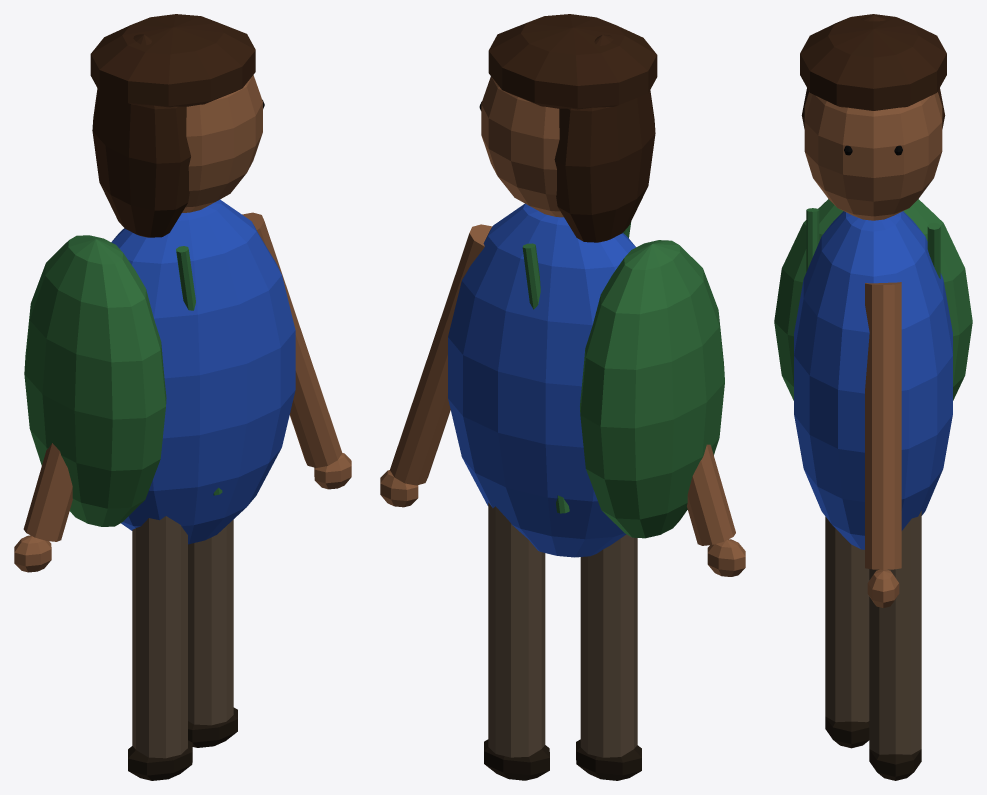
Rendered from backpacker_girl.obj.
The picture shows the model from 3 angles, left to right: view 1: azimuth 30°, elevation 25°; view 2: azimuth 150°, elevation 25°; view 3: azimuth 270°, elevation 25°; orthographic projection. The views are drawn at different scales.
Parts seen in each view (by area): view 1: girl_torso, girl_backpack, girl_leg_-0.07, girl_hair, girl_hair_back, girl_leg_0.07, girl_head, girl_arm_1, girl_arm_-1, girl_boot_-0.07, girl_hand_-1, girl_boot_0.07 (+2 smaller); view 2: girl_torso, girl_backpack, girl_leg_0.07, girl_hair, girl_leg_-0.07, girl_hair_back, girl_head, girl_arm_1, girl_arm_-1, girl_boot_-0.07, girl_boot_0.07, girl_hand_-1 (+2 smaller); view 3: girl_torso, girl_head, girl_hair, girl_arm_1, girl_leg_0.07, girl_leg_-0.07, girl_backpack, girl_boot_0.07, girl_boot_-0.07, girl_hand_1, girl_left_pack_strap, girl_right_pack_strap.
Part boxes in pixels (x1,y1,x2,y2): girl_torso: [111, 199, 295, 544]; girl_backpack: [24, 235, 166, 526]; girl_leg_-0.07: [132, 516, 187, 758]; girl_hair: [90, 14, 255, 107]; girl_hair_back: [92, 34, 190, 237]; girl_leg_0.07: [188, 519, 233, 725]; girl_head: [182, 75, 262, 212]; girl_arm_1: [242, 212, 342, 467]; girl_arm_-1: [23, 443, 72, 541]; girl_boot_-0.07: [128, 740, 192, 780]; girl_hand_-1: [14, 535, 51, 572]; girl_boot_0.07: [188, 707, 237, 747]; girl_torso: [448, 203, 635, 557]; girl_backpack: [580, 240, 724, 538]; girl_leg_0.07: [488, 502, 545, 757]; girl_hair: [488, 14, 657, 109]; girl_leg_-0.07: [580, 534, 637, 757]; girl_hair_back: [554, 35, 655, 242]; girl_head: [481, 76, 563, 217]; girl_arm_1: [390, 224, 492, 485]; girl_arm_-1: [687, 444, 735, 545]; girl_boot_-0.07: [576, 739, 641, 780]; girl_boot_0.07: [484, 739, 549, 780]; girl_hand_-1: [707, 539, 745, 576]; girl_torso: [794, 211, 952, 549]; girl_head: [804, 92, 942, 220]; girl_hair: [800, 14, 946, 110]; girl_arm_1: [865, 282, 901, 569]; girl_leg_0.07: [869, 511, 921, 754]; girl_leg_-0.07: [825, 516, 869, 722]; girl_backpack: [774, 199, 972, 400]; girl_boot_0.07: [869, 749, 921, 780]; girl_boot_-0.07: [825, 716, 869, 748]; girl_hand_1: [867, 569, 899, 607]; girl_left_pack_strap: [806, 208, 819, 271]; girl_right_pack_strap: [927, 222, 940, 278].
Bounding box in the file's own units: 0.5156 × 1.04 × 0.2592.
